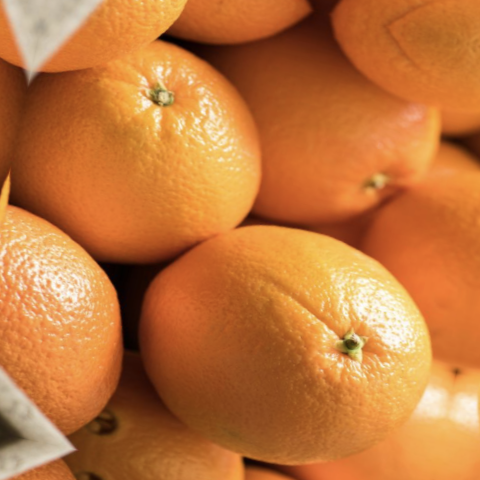orange: (102, 184, 480, 480), (0, 0, 316, 307)
